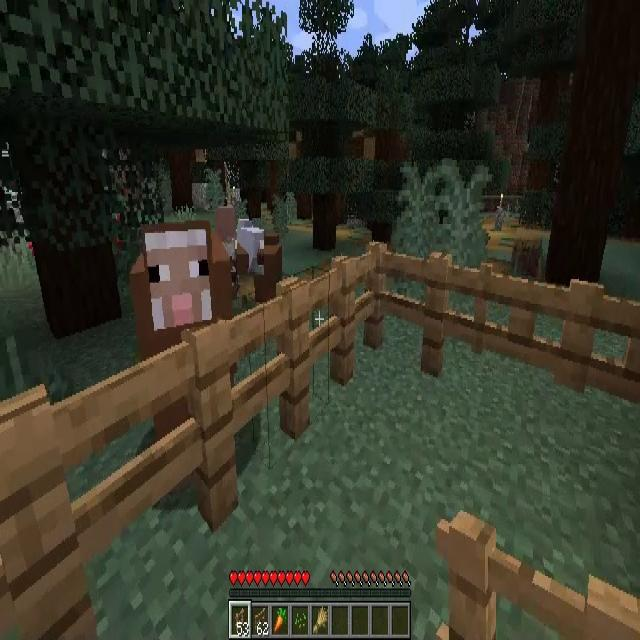people: (215, 207, 244, 300)
sheep: (131, 223, 231, 452), (255, 234, 282, 304), (237, 218, 264, 275)
